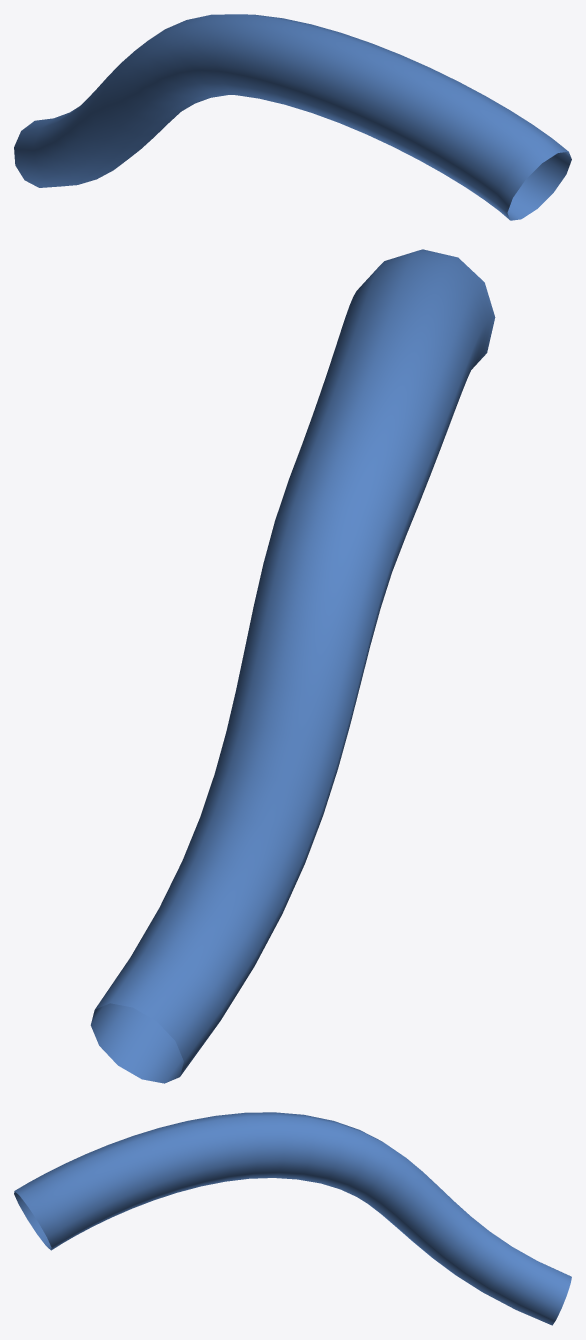
3 views of the same model, one above another, from view 1: azimuth 30°, elevation 25°; view 2: azimuth 150°, elevation 25°; view 3: azimuth 270°, elevation 25° (orthographic). The views are drawn at different scales.
Parts seen in each view (by area): view 1: 右侧髂外静脉; view 2: 右侧髂外静脉; view 3: 右侧髂外静脉.
Boxes of the visible parts, box(x1,y1,x2,y2) form: 右侧髂外静脉: box(14, 14, 571, 220); 右侧髂外静脉: box(90, 249, 495, 1083); 右侧髂外静脉: box(14, 1112, 571, 1325).
Bounding box in the file's own units: 0.0551 × 0.0683 × 0.1512.
